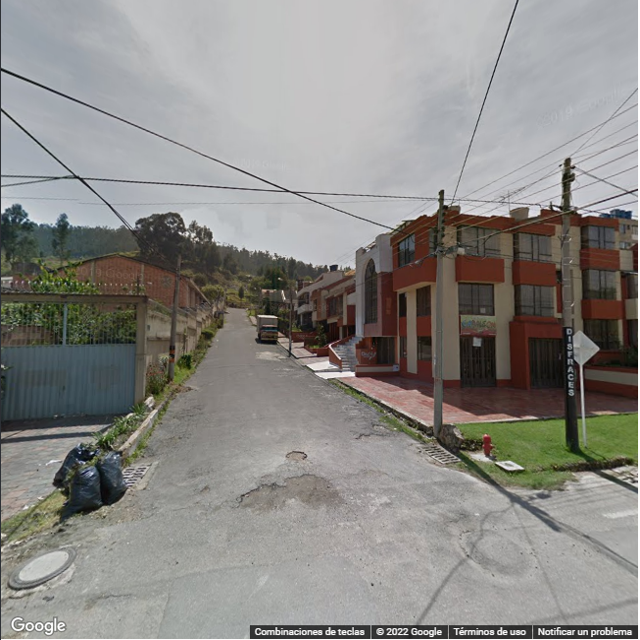D10: (85, 589, 134, 603)
D40: (236, 472, 312, 508), (280, 447, 314, 462)
